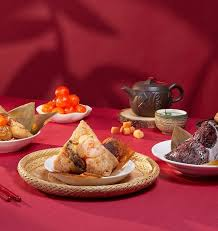zongzi: (54, 120, 132, 176), (165, 121, 217, 164)
